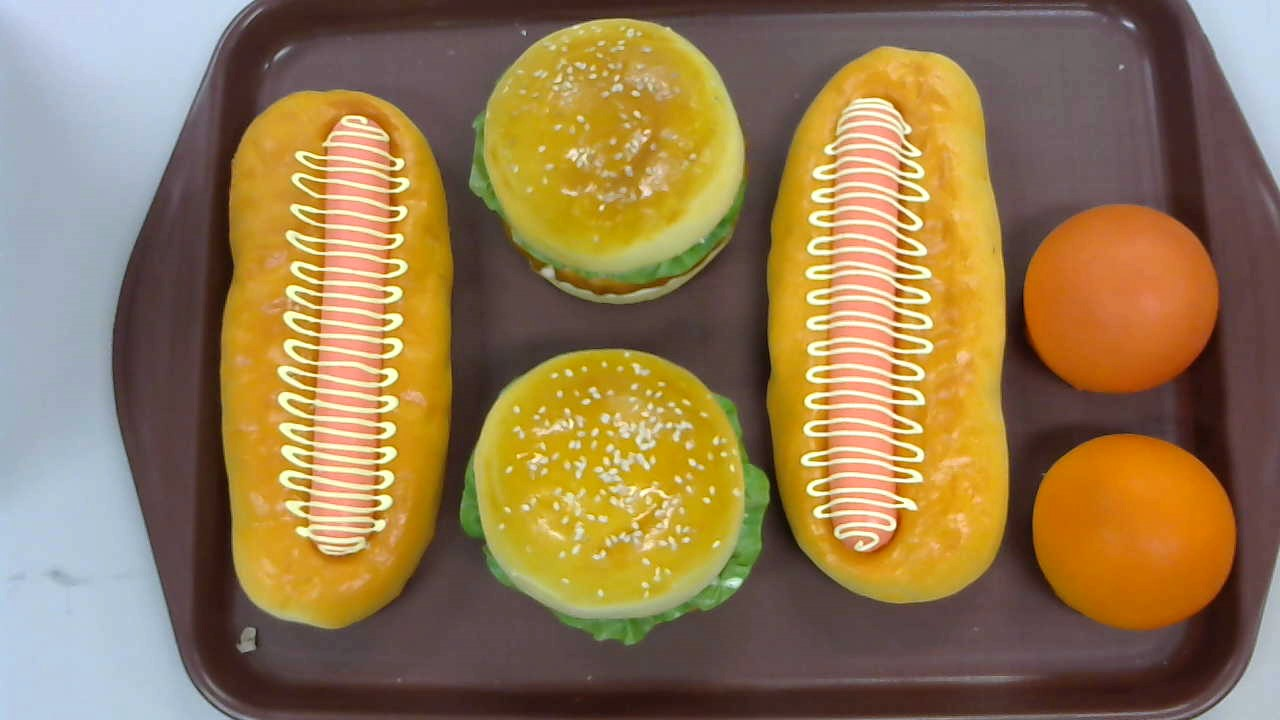bun: (1032, 431, 1237, 630), (1022, 204, 1220, 397)
hamburger: (460, 348, 771, 644), (467, 17, 752, 305)
hot dog: (765, 47, 1009, 605), (219, 89, 452, 628)
